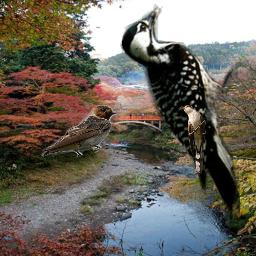Cuckoo: (180, 105, 205, 174)
Swallow: (40, 104, 117, 160)
Woodpecker: (119, 4, 240, 227)
